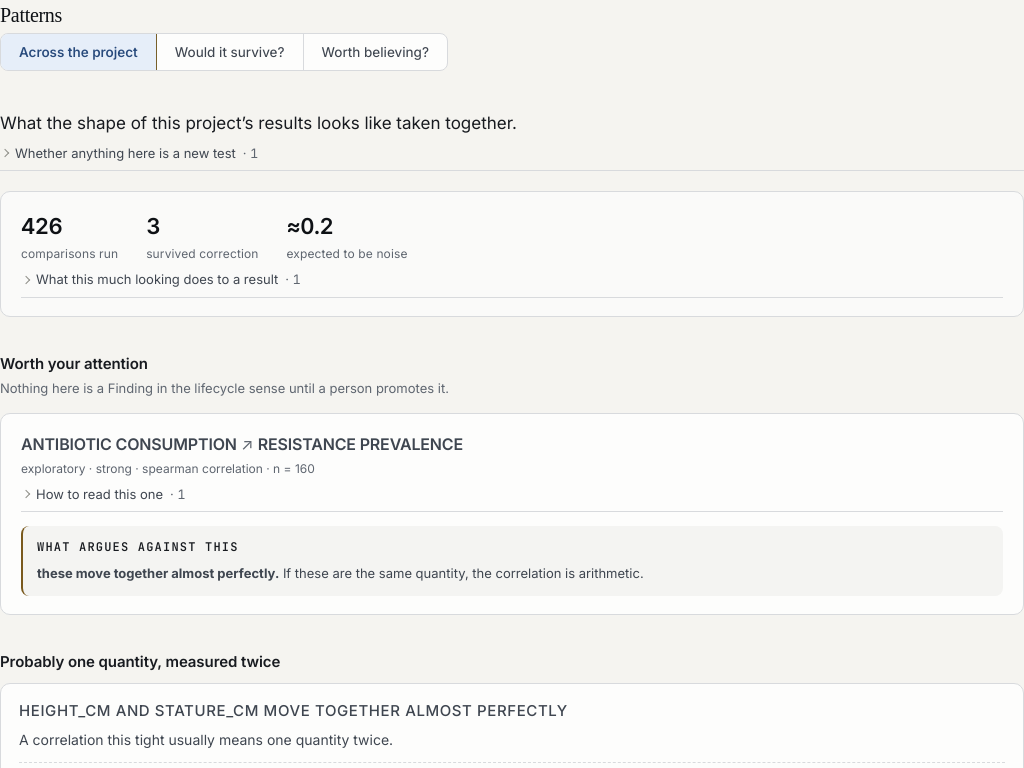
Test case: the robustness tab › offers the specification curve alongside the patterns
Click the tab "Would it survive?". click: (230, 52)
box: left=157, top=34, right=304, bottom=70
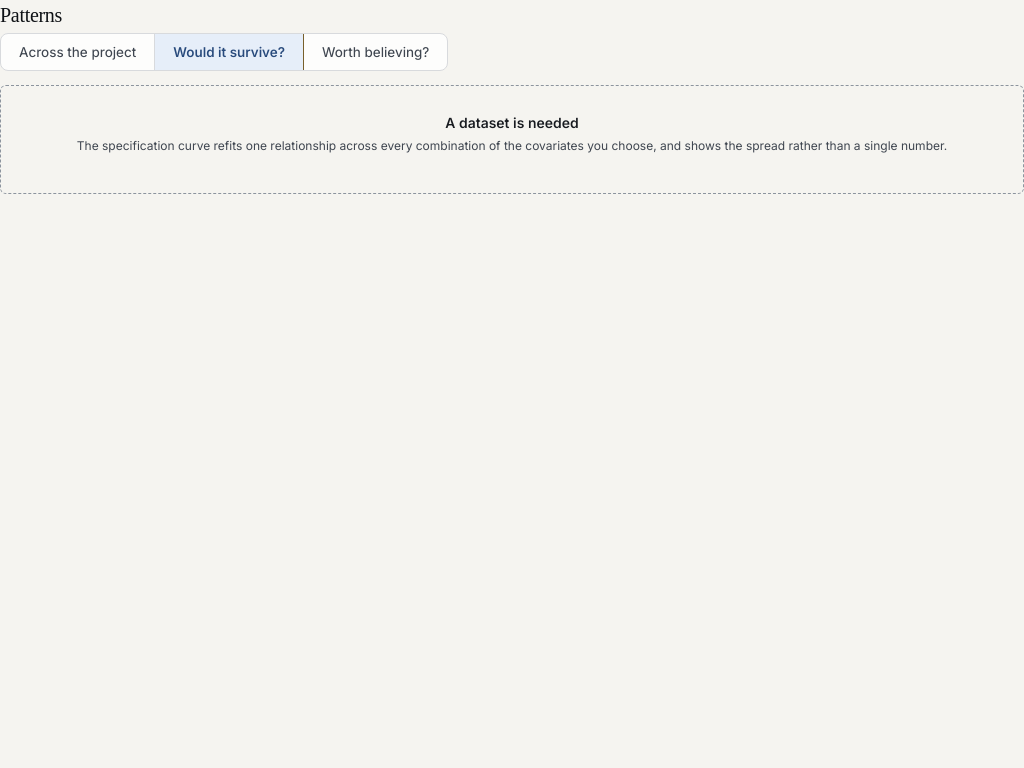
Check: the text "A dataset is needed" is shown, box left=445, top=114, right=579, bottom=131
